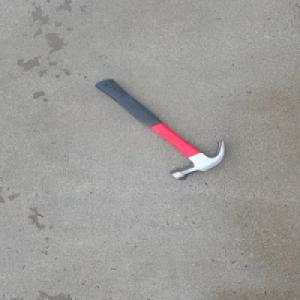Hammer: (94, 77, 228, 180)
